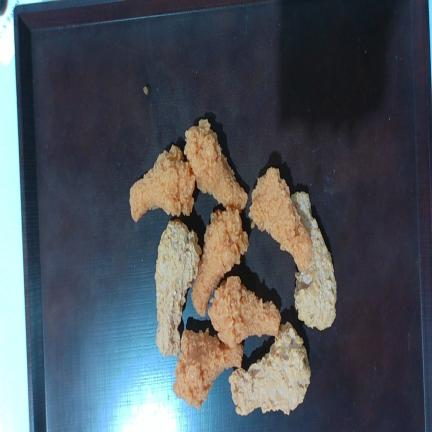chicken: (229, 322, 310, 415), (249, 167, 312, 269), (155, 219, 201, 356), (292, 191, 336, 330), (191, 209, 248, 316), (184, 119, 247, 211), (173, 329, 243, 408), (209, 276, 280, 346), (130, 145, 195, 221)
